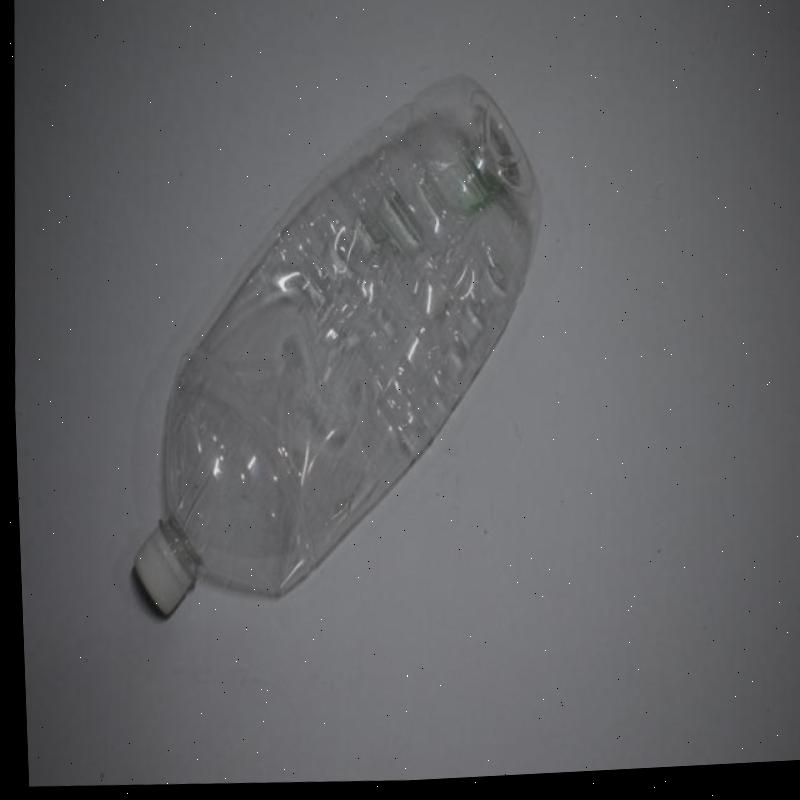botella: (107, 59, 556, 643)
